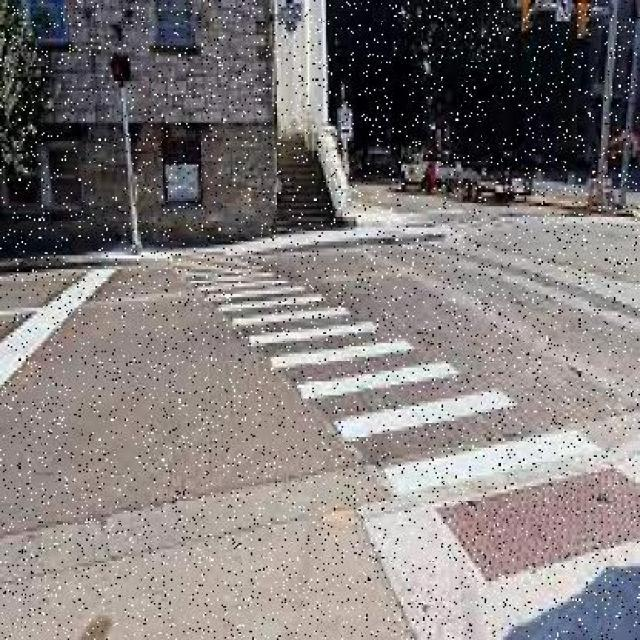crosswalk: (171, 257, 611, 504)
